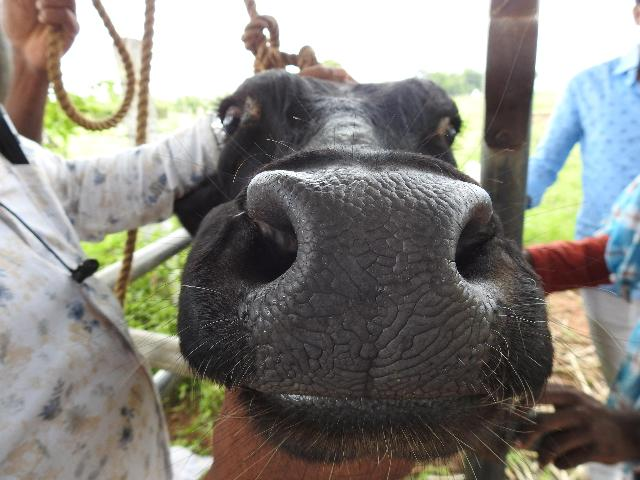Muzzle: (281, 174, 467, 398)
